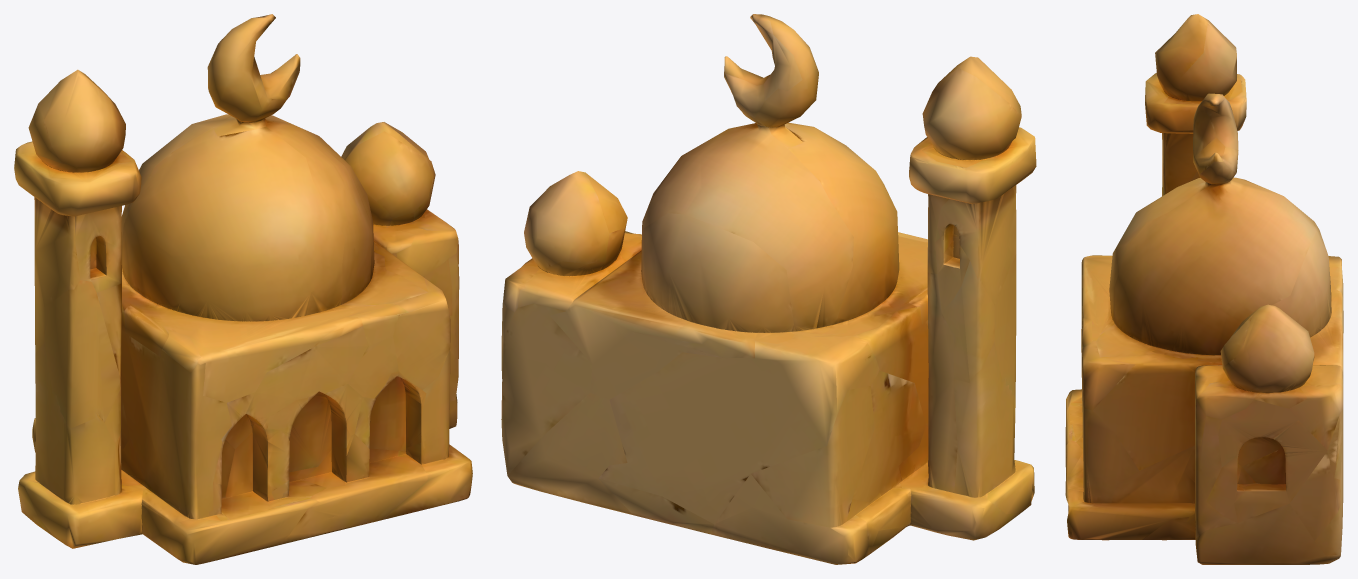
File: mosque_pbr.glb
The picture shows the model from 3 angles, left to right: view 1: azimuth 30°, elevation 25°; view 2: azimuth 150°, elevation 25°; view 3: azimuth 270°, elevation 25°; orthographic projection. The views are drawn at different scales.
Parts seen in each view (by area): view 1: model.008; view 2: model.008; view 3: model.008.
Boxes of the visible parts, box(x1,y1,x2,y2) form: model.008: box(14, 14, 472, 564); model.008: box(501, 14, 1036, 564); model.008: box(1065, 14, 1343, 564).
Bounding box in the file's own units: 1.71 × 1.71 × 1.1.
1 material, 1 textured.
